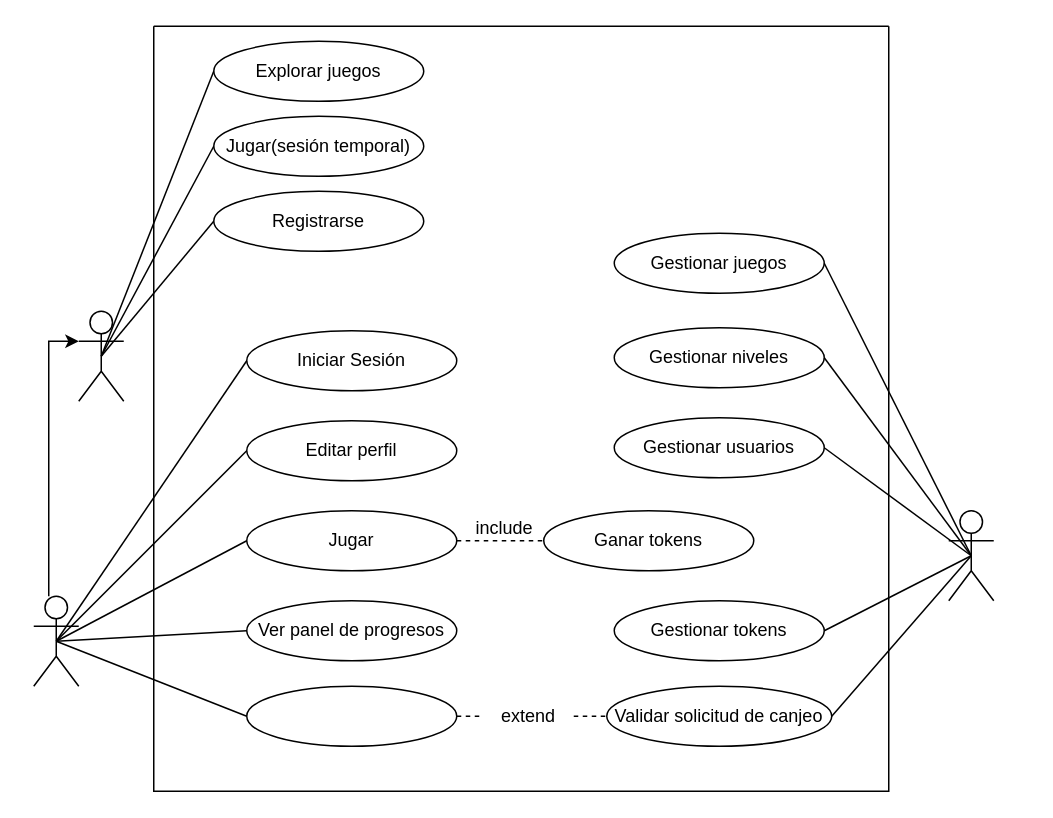
This 1053x818 diagram has some shape labels left out. The box of each missing label's shape, as (x1, y1, x2, y2) in pixels:
Administrador: (947, 509, 994, 601)
Alumno: (32, 595, 79, 686)
Canjear tokens: (245, 685, 457, 746)
Invitado: (77, 310, 124, 401)
